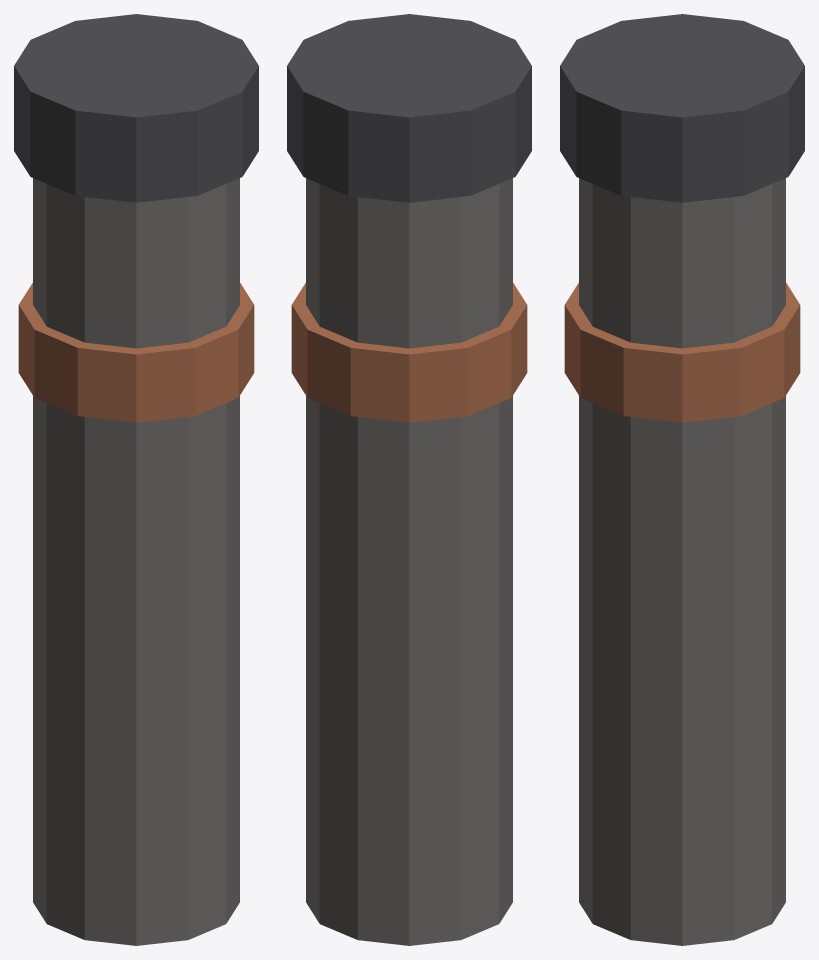
File: env_furn_bollard.glb
3 renders of one model, left to right at view 1: azimuth 30°, elevation 25°; view 2: azimuth 150°, elevation 25°; view 3: azimuth 270°, elevation 25°, orthographic.
Visible parts, largest first — view 1: env_furn_bollard; view 2: env_furn_bollard; view 3: env_furn_bollard.
Boxes of the visible parts, x1=… form: env_furn_bollard: x1=14, y1=14, x2=258, y2=945; env_furn_bollard: x1=287, y1=14, x2=531, y2=945; env_furn_bollard: x1=560, y1=14, x2=804, y2=945.
Bounding box in the file's own units: 0.26 × 0.98 × 0.26.
